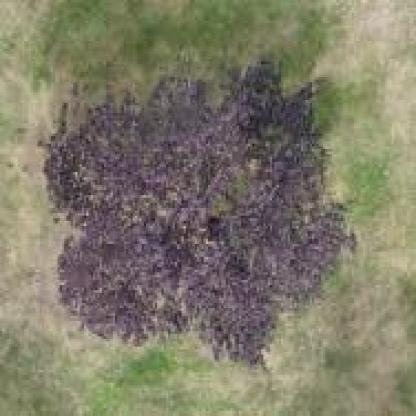Deciduous Tree: (44, 58, 358, 374)
